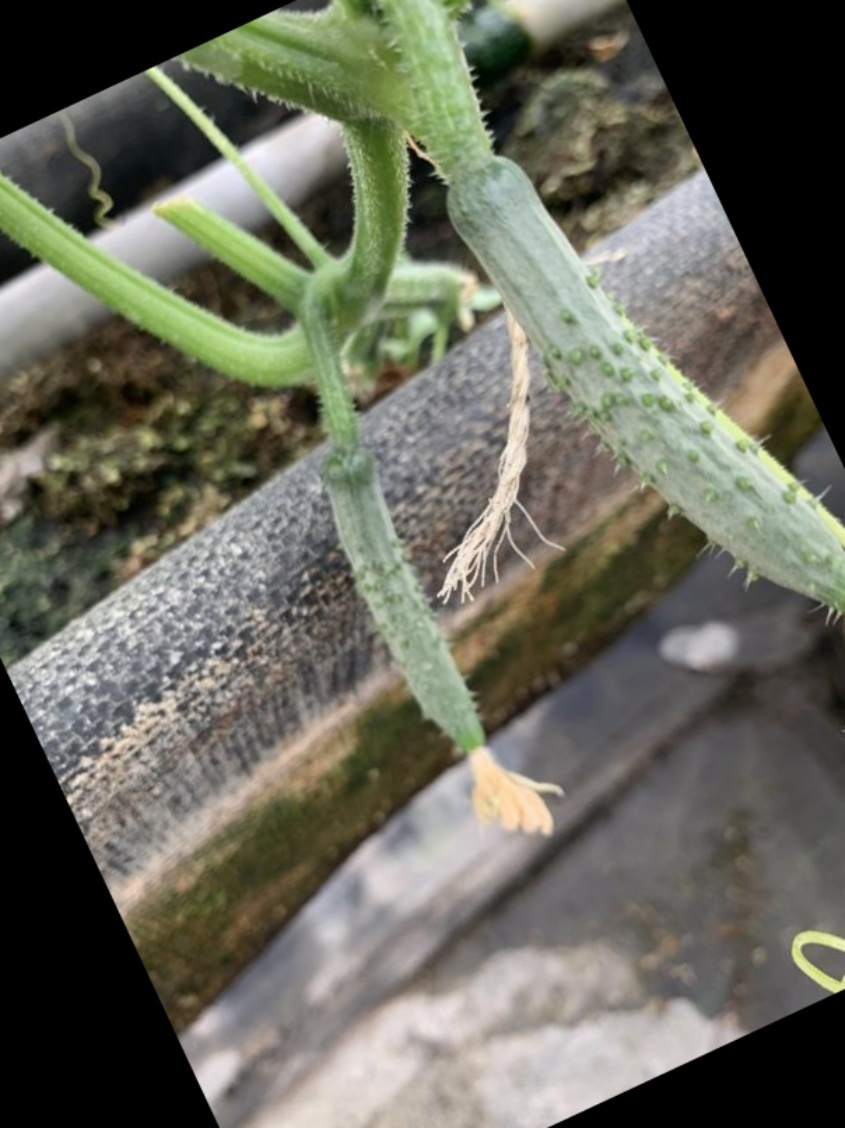bear: (295, 435, 548, 813)
